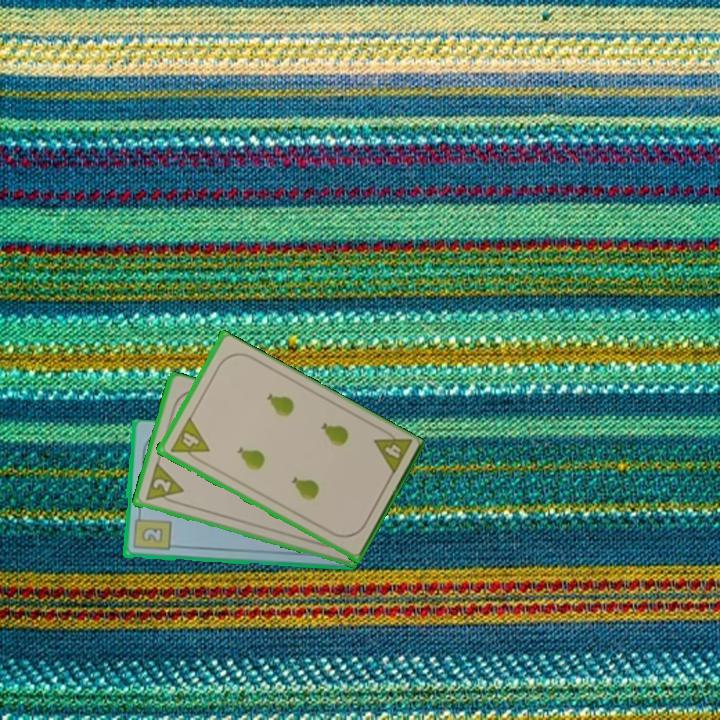2b: (130, 510, 173, 554)
2p: (141, 461, 186, 508)
4p: (370, 424, 415, 479), (166, 415, 212, 466)
